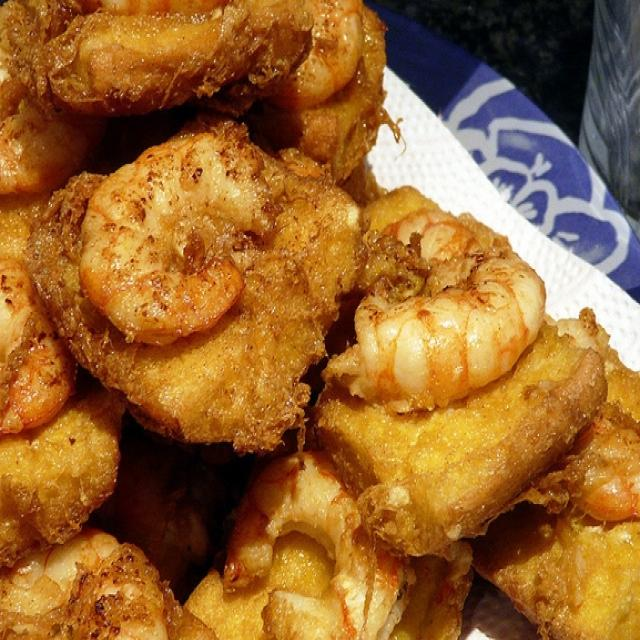炸货点心: (8, 13, 626, 626)
熟制海鲜: (8, 13, 626, 626)
